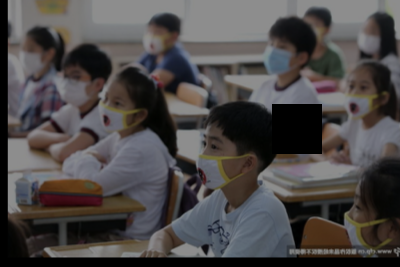with_mask: (342, 192, 378, 255), (194, 133, 229, 192), (342, 78, 374, 121), (95, 93, 127, 135), (55, 69, 87, 109), (261, 37, 292, 77), (355, 24, 381, 56), (17, 43, 42, 74), (140, 26, 164, 57)
